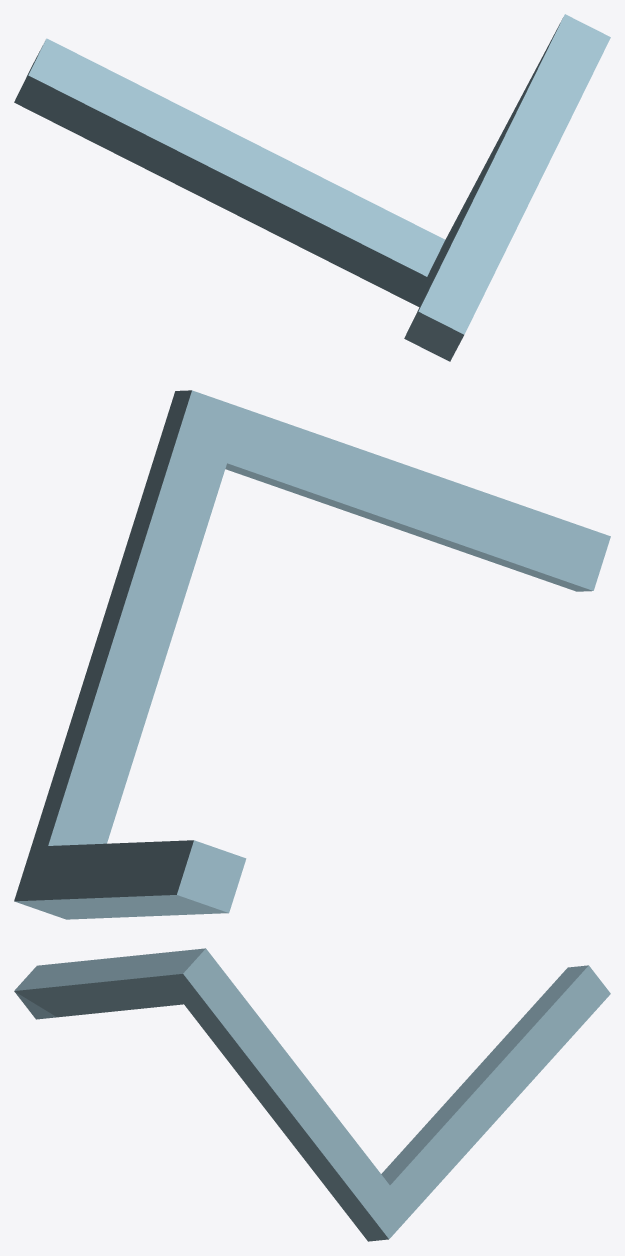
The model's file is triangle.gltf.
3 views of the same model, one above another, from view 1: azimuth 30°, elevation 25°; view 2: azimuth 150°, elevation 25°; view 3: azimuth 270°, elevation 25° (orthographic). The views are drawn at different scales.
Visible parts, largest first — view 1: Cube (×2); view 2: Cube (×2); view 3: Cube (×3).
Part boxes in pixels (x1,y1,x2,y2): Cube (×2): (14, 14, 610, 361); Cube (×2): (14, 390, 610, 919); Cube (×3): (14, 948, 610, 1241).
Size of the model in its own units: 4.28 by 4.91 by 9.1.
